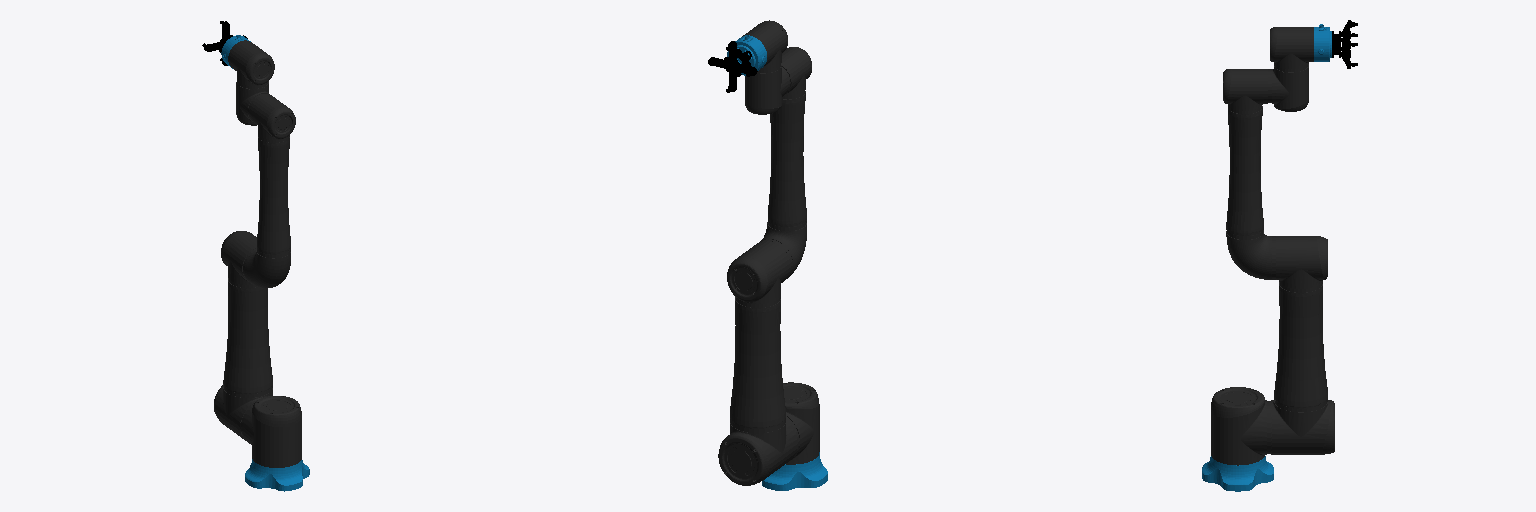
robot.urdf — orion5:
<?xml version="1.0" ?>
<!-- =================================================================================== -->
<!-- |    This document was autogenerated by xacro from [local-path]/cobot_ws/src/cobothon_ws/robot_description/urdf/orion5_main.xacro | -->
<!-- |    EDITING THIS FILE BY HAND IS NOT RECOMMENDED                                 | -->
<!-- =================================================================================== -->
<robot name="orion5">
    <material name="black">
        <color rgba="0.2 0.2 0.2 1.0" />
    </material>
    <material name="gray">
        <color rgba="0.6 0.6 0.6 1.0" />
    </material>
    <material name="blue">
        <color rgba="0.1 0.5 0.7 1.0" />
    </material>
    <link name="world" />
    <joint name="world_fixed_joint" type="fixed">
        <origin rpy="0 0 0" xyz="0.0 0.0 0.0" />
        <parent link="world" />
        <child link="base_link" />
    </joint>
    <link name="base_link">
        <inertial>
            <origin rpy="0 0 0" xyz="9.21255223397839E-07 -1.79280775157765E-06 0.024815226974079" />
            <mass value="0.769889098895433" />
            <inertia ixx="0.00118316322664961" ixy="1.14774534712335E-08" ixz="-2.43710987071992E-10" iyy="0.001183242751309" iyz="1.83744059910972E-10" izz="0.00198318001699658" />
        </inertial>
        <visual>
            <origin rpy="0 0 0" xyz="0 0 0" />
            <geometry>
                <mesh filename="package://robot_description/meshes/orion5/base_link.STL" />
            </geometry>
            <material name="blue" />
        </visual>
        <collision>
            <origin rpy="0 0 0" xyz="0 0 0" />
            <geometry>
                <mesh filename="package://robot_description/meshes/orion5/base_link.STL" />
            </geometry>
        </collision>
    </link>
    <link name="L1">
        <inertial>
            <origin rpy="0 0 0" xyz="0.0103127600446312 2.12729023838594E-06 0.0644758348429013" />
            <mass value="4.7865392773478" />
            <inertia ixx="0.0101873519511181" ixy="-4.72148313658262E-09" ixz="-0.000588650779689266" iyy="0.0114905065233776" iyz="-2.06767262963085E-08" izz="0.0108370720789659" />
        </inertial>
        <visual>
            <origin rpy="0 0 0" xyz="0 0 0" />
            <geometry>
                <mesh filename="package://robot_description/meshes/orion5/L1.STL" />
            </geometry>
            <material name="black" />
        </visual>
        <collision>
            <origin rpy="0 0 0" xyz="0 0 0" />
            <geometry>
                <mesh filename="package://robot_description/meshes/orion5/L1.STL" />
            </geometry>
        </collision>
    </link>
    <joint name="J1" type="revolute">
        <origin rpy="0 0 1.57" xyz="0 0 0.055" />
        <parent link="base_link" />
        <child link="L1" />
        <axis xyz="0 0 1" />
        <limit effort="200" lower="-3.14" upper="3.14" velocity="3.14" />
    </joint>
    <link name="L2">
        <inertial>
            <origin rpy="0 0 0" xyz="-2.59965993875612E-07 0.119821198591517 0.0651559418461157" />
            <mass value="8.30151552015886" />
            <inertia ixx="0.0328486452992198" ixy="1.03654727361315E-08" ixz="2.40742068996585E-08" iyy="0.0150283825082022" iyz="-0.000501441738539127" izz="0.032101333211442" />
        </inertial>
        <visual>
            <origin rpy="0 0 0" xyz="0 0 0" />
            <geometry>
                <mesh filename="package://robot_description/meshes/orion5/L2.STL" />
            </geometry>
            <material name="black" />
        </visual>
        <collision>
            <origin rpy="0 0 0" xyz="0 0 0" />
            <geometry>
                <mesh filename="package://robot_description/meshes/orion5/L2.STL" />
            </geometry>
        </collision>
    </link>
    <joint name="J2" type="revolute">
        <origin rpy="1.5708 0 1.5708" xyz="0.076 0 0.066" />
        <parent link="L1" />
        <child link="L2" />
        <axis xyz="0 0 1" />
        <limit effort="200" lower="-3.14" upper="3.14" velocity="3.14" />
    </joint>
    <link name="L3">
        <inertial>
            <origin rpy="0 0 0" xyz="8.0156E-08 -0.13917 0.058933" />
            <mass value="4.1211" />
            <inertia ixx="0.017469" ixy="-6.5147E-10" ixz="1.0147E-08" iyy="0.0044278" iyz="0.00075596" izz="0.01684" />
        </inertial>
        <visual>
            <origin rpy="0 0 0" xyz="0 0 0" />
            <geometry>
                <mesh filename="package://robot_description/meshes/orion5/L3.STL" />
            </geometry>
            <material name="black" />
        </visual>
        <collision>
            <origin rpy="0 0 0" xyz="0 0 0" />
            <geometry>
                <mesh filename="package://robot_description/meshes/orion5/L3.STL" />
            </geometry>
        </collision>
    </link>
    <joint name="J3" type="revolute">
        <origin rpy="3.1416 0 0" xyz="0 0.421 0.01" />
        <parent link="L2" />
        <child link="L3" />
        <axis xyz="0 0 1" />
        <limit effort="200" lower="-3.14" upper="3.14" velocity="3.14" />
    </joint>
    <link name="L4">
        <inertial>
            <origin rpy="0 0 0" xyz="-2.1724E-07 0.0023928 0.046823" />
            <mass value="0.54999" />
            <inertia ixx="0.00061299" ixy="-1.2312E-09" ixz="-4.5565E-09" iyy="0.00054583" iyz="-3.9716E-05" izz="0.00054518" />
        </inertial>
        <visual>
            <origin rpy="0 0 0" xyz="0 0 0" />
            <geometry>
                <mesh filename="package://robot_description/meshes/orion5/L4.STL" />
            </geometry>
            <material name="black" />
        </visual>
        <collision>
            <origin rpy="0 0 0" xyz="0 0 0" />
            <geometry>
                <mesh filename="package://robot_description/meshes/orion5/L4.STL" />
            </geometry>
        </collision>
    </link>
    <joint name="J4" type="revolute">
        <origin rpy="3.1416 0 0" xyz="0 -0.427 0.019" />
        <parent link="L3" />
        <child link="L4" />
        <axis xyz="0 0 1" />
        <limit effort="200" lower="-3.14" upper="3.14" velocity="3.14" />
    </joint>
    <link name="L5">
        <inertial>
            <origin rpy="0 0 0" xyz="0.0023928 -2.1726E-07 -0.046823" />
            <mass value="0.54999" />
            <inertia ixx="0.00054583" ixy="-1.2312E-09" ixz="3.9716E-05" iyy="0.00061299" iyz="4.5567E-09" izz="0.00054518" />
        </inertial>
        <visual>
            <origin rpy="0 0 0" xyz="0 0 0" />
            <geometry>
                <mesh filename="package://robot_description/meshes/orion5/L5.STL" />
            </geometry>
            <material name="black" />
        </visual>
        <collision>
            <origin rpy="0 0 0" xyz="0 0 0" />
            <geometry>
                <mesh filename="package://robot_description/meshes/orion5/L5.STL" />
            </geometry>
        </collision>
    </link>
    <joint name="J5" type="revolute">
        <origin rpy="1.5708 -1.5708 0" xyz="0 0.051 0.053" />
        <parent link="L4" />
        <child link="L5" />
        <axis xyz="0 0 1" />
        <limit effort="200" lower="-3.14" upper="3.14" velocity="3.14" />
    </joint>
    <link name="L6">
        <inertial>
            <origin rpy="0 0 0" xyz="-7.0636E-06 -0.00050194 0.018628" />
            <mass value="0.17983" />
            <inertia ixx="9.0912E-05" ixy="2.9828E-08" ixz="2.376E-08" iyy="9.1652E-05" iyz="-4.4464E-08" izz="0.00014028" />
        </inertial>
        <visual>
            <origin rpy="0 0 0" xyz="0 0 0" />
            <geometry>
                <mesh filename="package://robot_description/meshes/orion5/L6.STL" />
            </geometry>
            <material name="blue" />
        </visual>
        <collision>
            <origin rpy="0 0 0" xyz="0 0 0" />
            <geometry>
                <mesh filename="package://robot_description/meshes/orion5/L6.STL" />
            </geometry>
        </collision>
    </link>
    <joint name="J6" type="revolute">
        <origin rpy="-1.5708 0 -1.5708" xyz="0.051 0 -0.053" />
        <parent link="L5" />
        <child link="L6" />
        <axis xyz="0 0 1" />
        <limit effort="200" lower="-3.14" upper="3.14" velocity="3.14" />
    </joint>
    <joint name="gripper_joint" type="fixed">
        <parent link="L6" />
        <child link="gripper_link" />
        <origin rpy="3.14 0 3.14" xyz="0 0 0.04" />
    </joint>
    <link name="gripper_link">
        <visual>
            <origin rpy="0 0 0" xyz="-0.06 -0.06 -0.06" />
            <geometry>
                <mesh filename="package://robot_description/meshes/gripper/vacuum.STL" scale="0.001 0.001 0.001" />
            </geometry>
            <material name="black">
                <color rgba="0 0 0 1.0" />
            </material>
        </visual>
        <collision>
            <origin rpy="0 0 0" xyz="-0.06 -0.06 -0.06" />
            <geometry>
                <mesh filename="package://robot_description/meshes/gripper/vacuum.STL" scale="0.001 0.001 0.001" />
            </geometry>
        </collision>
        <inertial>
            <mass value="2.0" />
            <origin rpy="0 0 0" xyz="0 0 0" />
            <inertia ixx="0.00443333156" ixy="0.0" ixz="0.0" iyy="0.00443333156" iyz="0.0" izz="0.0072" />
        </inertial>
    </link>
    <!-- TCP link -->
    <link name="tcp_link" />
    <joint name="tcp_joint" type="fixed">
        <parent link="gripper_link" />
        <child link="tcp_link" />
        <origin rpy="-3.14 0 0" xyz="0 0 -0.06" />
    </joint>
    <transmission name="J1_tran">
        <type>transmission_interface/SimpleTransmission</type>
        <joint name="J1">
            <hardwareInterface>hardware_interface/PositionJointInterface</hardwareInterface>
        </joint>
        <actuator name="J1_actr">
            <hardwareInterface>hardware_interface/PositionJointInterface</hardwareInterface>
            <mechanicalReduction>1</mechanicalReduction>
        </actuator>
    </transmission>
    <transmission name="J2_tran">
        <type>transmission_interface/SimpleTransmission</type>
        <joint name="J2">
            <hardwareInterface>hardware_interface/PositionJointInterface</hardwareInterface>
        </joint>
        <actuator name="J2_actr">
            <hardwareInterface>hardware_interface/PositionJointInterface</hardwareInterface>
            <mechanicalReduction>1</mechanicalReduction>
        </actuator>
    </transmission>
    <transmission name="J3_tran">
        <type>transmission_interface/SimpleTransmission</type>
        <joint name="J3">
            <hardwareInterface>hardware_interface/PositionJointInterface</hardwareInterface>
        </joint>
        <actuator name="J3_actr">
            <hardwareInterface>hardware_interface/PositionJointInterface</hardwareInterface>
            <mechanicalReduction>1</mechanicalReduction>
        </actuator>
    </transmission>
    <transmission name="J4_tran">
        <type>transmission_interface/SimpleTransmission</type>
        <joint name="J4">
            <hardwareInterface>hardware_interface/PositionJointInterface</hardwareInterface>
        </joint>
        <actuator name="J4_actr">
            <hardwareInterface>hardware_interface/PositionJointInterface</hardwareInterface>
            <mechanicalReduction>1</mechanicalReduction>
        </actuator>
    </transmission>
    <transmission name="J5_tran">
        <type>transmission_interface/SimpleTransmission</type>
        <joint name="J5">
            <hardwareInterface>hardware_interface/PositionJointInterface</hardwareInterface>
        </joint>
        <actuator name="J5_actr">
            <hardwareInterface>hardware_interface/PositionJointInterface</hardwareInterface>
            <mechanicalReduction>1</mechanicalReduction>
        </actuator>
    </transmission>
    <transmission name="J6_tran">
        <type>transmission_interface/SimpleTransmission</type>
        <joint name="J6">
            <hardwareInterface>hardware_interface/PositionJointInterface</hardwareInterface>
        </joint>
        <actuator name="J6_actr">
            <hardwareInterface>hardware_interface/PositionJointInterface</hardwareInterface>
            <mechanicalReduction>1</mechanicalReduction>
        </actuator>
    </transmission>
    <!-- Gazebo Colors -->
    <gazebo reference="base_link">
        <material>Gazebo/SkyBlue</material>
        <mu1>0.2</mu1>
        <mu2>0.2</mu2>
        <selfCollide>true</selfCollide>
        <gravity>true</gravity>
        <plugin name="gazebo_ros_control">
            <robotNamespace>/</robotNamespace>
        </plugin>
    </gazebo>
    
    <gazebo reference="L1">
        <material>Gazebo/DarkGrey</material>
        <mu1>0.2</mu1>
        <mu2>0.2</mu2>
        <selfCollide>true</selfCollide>
    </gazebo>
    <gazebo reference="L2">
        <material>Gazebo/DarkGrey</material>
        <mu1>0.2</mu1>
        <mu2>0.2</mu2>
        <selfCollide>true</selfCollide>
    </gazebo>
    <gazebo reference="L3">
        <material>Gazebo/DarkGrey</material>
        <mu1>0.2</mu1>
        <mu2>0.2</mu2>
        <selfCollide>true</selfCollide>
    </gazebo>
    <gazebo reference="L4">
        <material>Gazebo/DarkGrey</material>
        <mu1>0.2</mu1>
        <mu2>0.2</mu2>
        <selfCollide>true</selfCollide>
    </gazebo>
    <gazebo reference="L5">
        <material>Gazebo/DarkGrey</material>
        <mu1>0.2</mu1>
        <mu2>0.2</mu2>
        <selfCollide>true</selfCollide>
    </gazebo>
    <gazebo reference="L6">
        <material>Gazebo/SkyBlue</material>
        <mu1>0.2</mu1>
        <mu2>0.2</mu2>
        <selfCollide>true</selfCollide>
    </gazebo>
    <gazebo reference="gripper_link">
        <material>Gazebo/DarkGrey</material>
        <mu1>0.2</mu1>
        <mu2>0.2</mu2>
        <selfCollide>true</selfCollide>
    </gazebo>
    <gazebo>
        <plugin filename="libgazebo_ros_control.so" name="ros_control">
            <!--robotNamespace>/</robotNamespace-->
            <!--robotSimType>gazebo_ros_control/DefaultRobotHWSim</robotSimType-->
        </plugin>
    </gazebo>
</robot>

--- What the picture shows (computed from the rendered views, not written in the file) ---
3 views of the same robot in one strip: view 1: azimuth 30°, elevation 25°; view 2: azimuth 150°, elevation 25°; view 3: azimuth 270°, elevation 25° (orthographic).
Robot: orion5 — 10 links, 9 joints (6 revolute, 3 fixed); root link world; default pose: all joints at 0.
Links seen in each view (by area): view 1: L2, L3, L1, L5, base_link, L4; view 2: L2, L3, L1, L4, base_link, L5, gripper_link, L6; view 3: L2, L3, L1, L5, base_link, L4, gripper_link, L6.
Boxes of the visible links, x1,y1,x2,y2 form: L2: (214, 231, 272, 440); L3: (242, 94, 295, 287); L1: (240, 396, 301, 467); L5: (228, 40, 274, 89); base_link: (245, 459, 309, 491); L4: (236, 82, 269, 125); L2: (718, 241, 797, 485); L3: (760, 47, 811, 278); L1: (783, 382, 819, 464); L4: (745, 66, 790, 114); base_link: (762, 452, 827, 490); L5: (742, 20, 787, 73); gripper_link: (708, 41, 757, 92); L6: (727, 35, 766, 75); L2: (1272, 236, 1334, 454); L3: (1223, 69, 1275, 279); L1: (1211, 387, 1271, 465); L5: (1270, 27, 1313, 72); base_link: (1202, 456, 1273, 491); L4: (1268, 67, 1308, 111); gripper_link: (1332, 20, 1357, 68); L6: (1314, 24, 1331, 61).
Bounding box of the posed robot: 0.164 × 0.3529 × 1.13 m (x, y, z).
8 mesh visuals loaded from 8 distinct referenced files (8 binary STL).